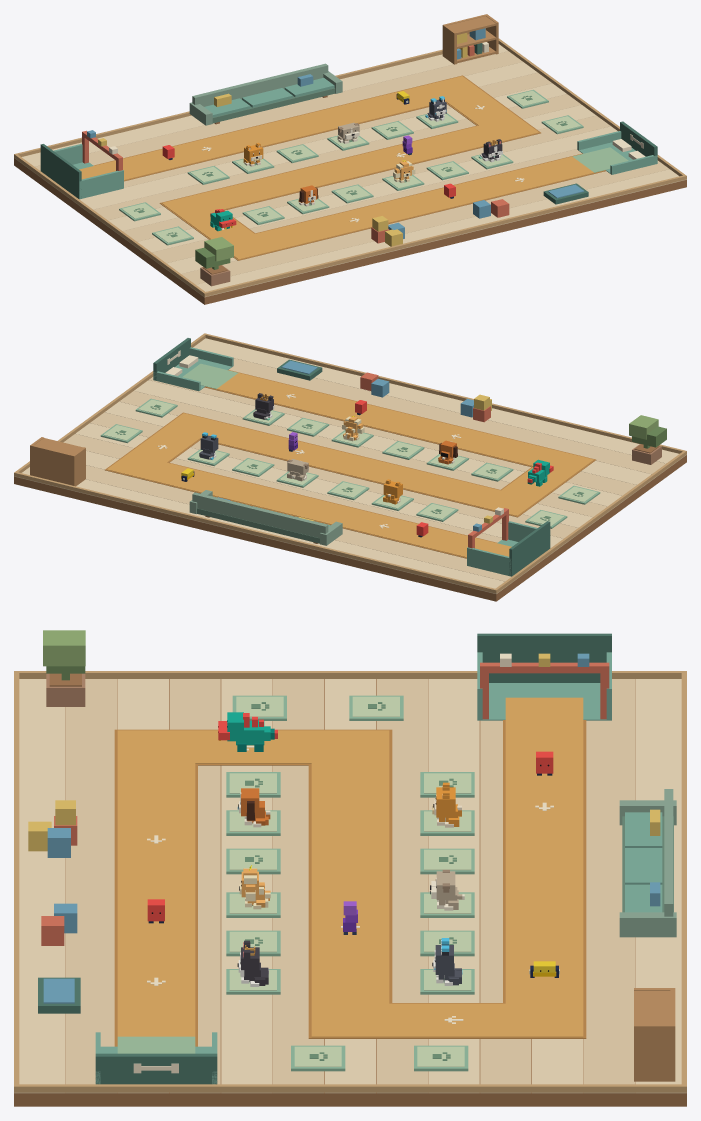
File: Pupsters_Block_Playroom_Showcase.obj
3 views of the same model, one above another, from view 1: azimuth 30°, elevation 25°; view 2: azimuth 150°, elevation 25°; view 3: azimuth 270°, elevation 25° (orthographic). The views are drawn at different scales.
Visible parts, largest first — view 1: Road06, Road07, Road05, FloorPlank01, MapBase, FloorPlank11, FloorPlank12, FloorPlank05, FloorPlank08, FloorPlank07, FloorPlank04, FloorPlank00 (+31 smaller); view 2: Road05, Road06, Road07, FloorPlank11, MapBase, FloorPlank12, FloorPlank07, FloorPlank00, FloorPlank08, FloorPlank01, FloorPlank05, FloorPlank04 (+31 smaller); view 3: Road06, Road07, Road05, FloorPlank11, FloorPlank01, FloorPlank12, FloorPlank05, FloorPlank07, MapBase, FloorPlank04, FloorPlank08, FloorPlank00 (+50 smaller).
Boxes of the visible parts, left/top/right/bottom form: Road06: left=200, top=125, right=497, bottom=209; Road07: left=255, top=166, right=555, bottom=250; Road05: left=145, top=85, right=445, bottom=169; FloorPlank01: left=28, top=51, right=522, bottom=178; MapBase: left=14, top=158, right=686, bottom=304; FloorPlank11: left=175, top=160, right=669, bottom=286; FloorPlank12: left=190, top=169, right=686, bottom=297; FloorPlank05: left=87, top=94, right=581, bottom=221; FloorPlank08: left=131, top=126, right=617, bottom=254; FloorPlank07: left=117, top=115, right=610, bottom=243; FloorPlank04: left=73, top=83, right=566, bottom=211; FloorPlank00: left=14, top=44, right=508, bottom=168; Road05: left=145, top=462, right=445, bottom=546; Road06: left=200, top=422, right=500, bottom=506; Road07: left=255, top=382, right=555, bottom=466; FloorPlank11: left=229, top=358, right=672, bottom=475; MapBase: left=14, top=455, right=686, bottom=601; FloorPlank12: left=193, top=338, right=686, bottom=465; FloorPlank07: left=119, top=391, right=613, bottom=518; FloorPlank00: left=14, top=467, right=510, bottom=594; FloorPlank08: left=134, top=380, right=628, bottom=507; FloorPlank01: left=86, top=465, right=525, bottom=583; FloorPlank05: left=90, top=412, right=583, bottom=540; FloorPlank04: left=75, top=423, right=569, bottom=550; Road06: left=311, top=763, right=389, bottom=1003; Road07: left=117, top=763, right=195, bottom=1003; Road05: left=505, top=763, right=583, bottom=1003; FloorPlank11: left=66, top=679, right=117, bottom=1093; FloorPlank01: left=583, top=679, right=634, bottom=1093; FloorPlank12: left=14, top=679, right=65, bottom=1093; FloorPlank05: left=376, top=679, right=427, bottom=1093; FloorPlank07: left=273, top=679, right=324, bottom=1093; MapBase: left=14, top=679, right=686, bottom=1106; FloorPlank04: left=428, top=679, right=479, bottom=1093; FloorPlank08: left=221, top=679, right=272, bottom=1093; FloorPlank00: left=635, top=679, right=686, bottom=1093.
Size of the model in its own units: 76 by 6.63 by 52.
